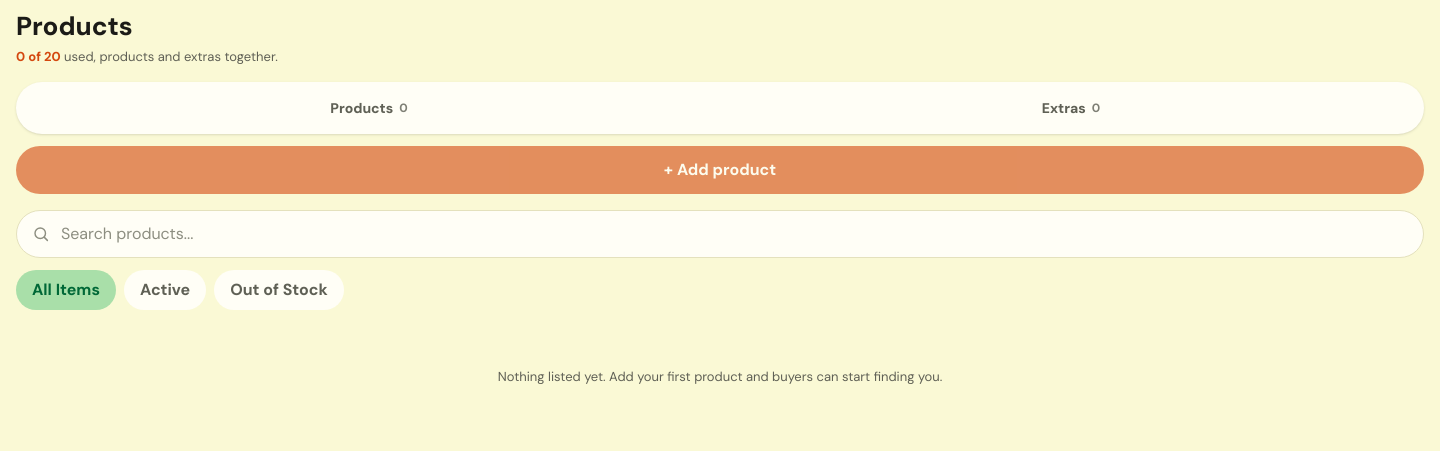
Test: Products › explains the ceiling rather than hiding the button at the limit
Click the button "+ Add product": (720, 170) [16,146,1424,194]
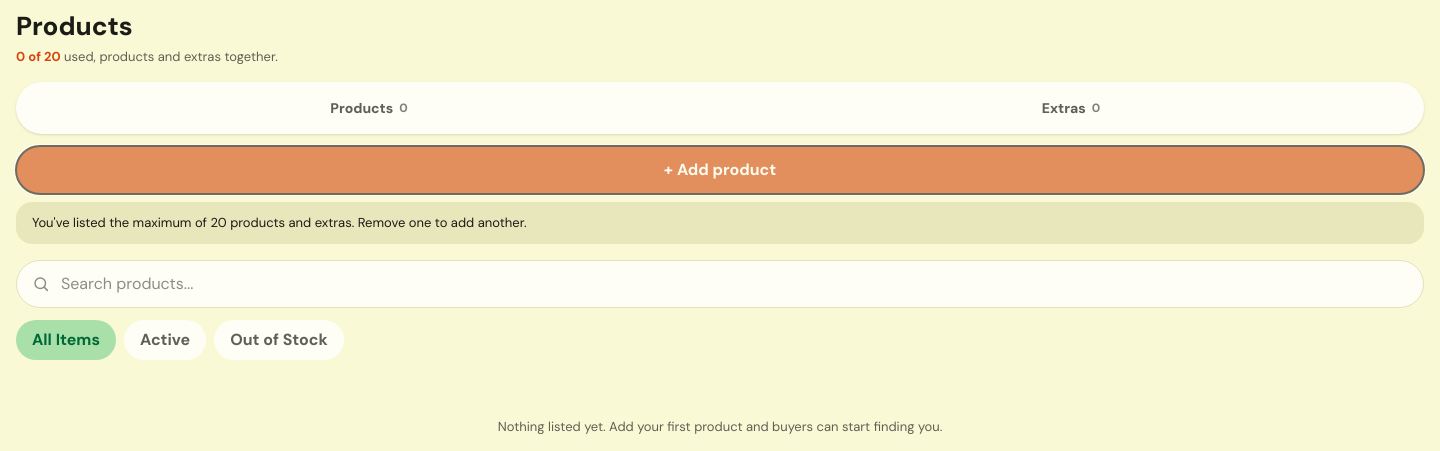
Check: the message shows "maximum of 20 products and extras", box [32,214,526,231]
